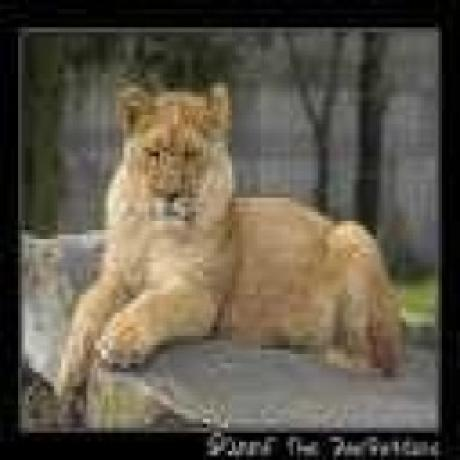Lion: (57, 83, 405, 395)
